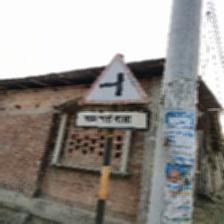Side-road-left: (76, 54, 151, 133)
